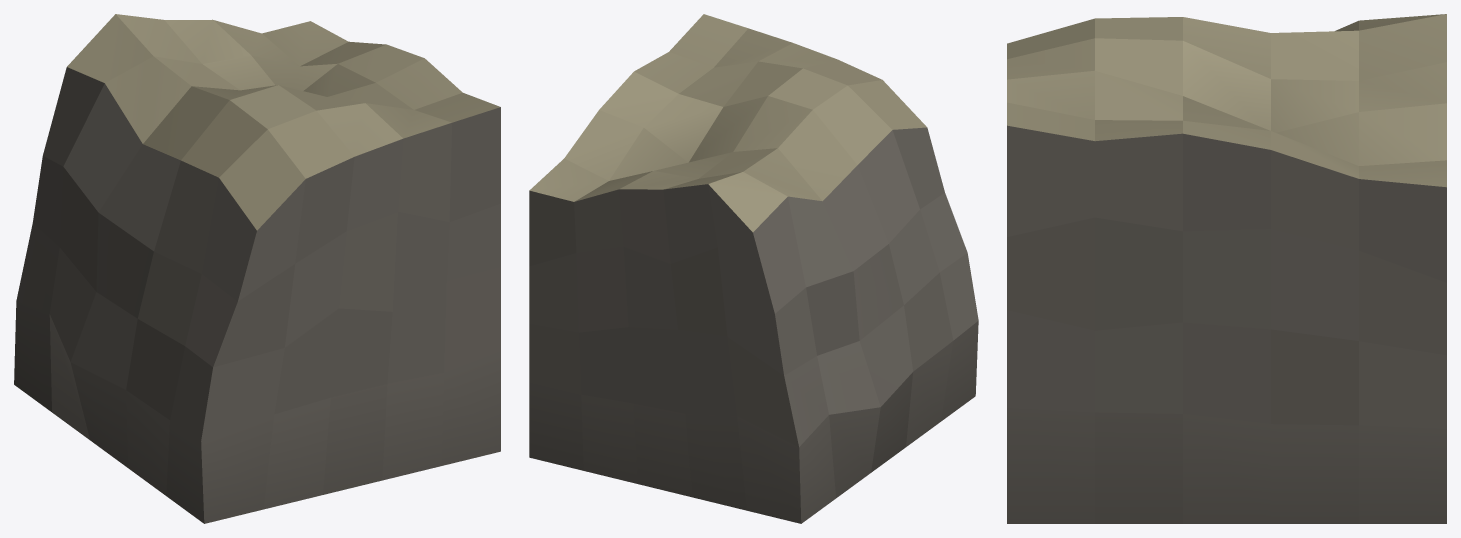
Rendered from roca_te_2.glb.
3 views of the same model, side by side, from view 1: azimuth 30°, elevation 25°; view 2: azimuth 150°, elevation 25°; view 3: azimuth 270°, elevation 25° (orthographic). The views are drawn at different scales.
Visible parts, largest first — view 1: propforge-cuartos-roca_te; view 2: propforge-cuartos-roca_te; view 3: propforge-cuartos-roca_te.
Boxes of the visible parts, box(x1,y1,x2,y2) form: propforge-cuartos-roca_te: box(14, 14, 500, 523); propforge-cuartos-roca_te: box(529, 14, 978, 523); propforge-cuartos-roca_te: box(1007, 14, 1446, 523).
Bounding box in the file's own units: 0.9457 × 1.01 × 1.
